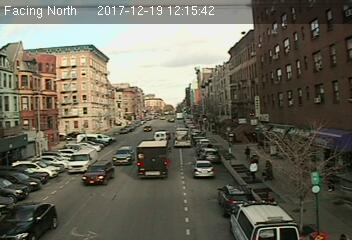car: (1, 201, 60, 237), (219, 182, 256, 215), (83, 159, 114, 185), (191, 159, 215, 181), (112, 146, 135, 165), (200, 148, 218, 160)
police: (230, 197, 306, 240)
truck: (66, 148, 97, 172), (173, 127, 193, 148), (153, 131, 168, 140)
ups: (135, 140, 170, 180)
